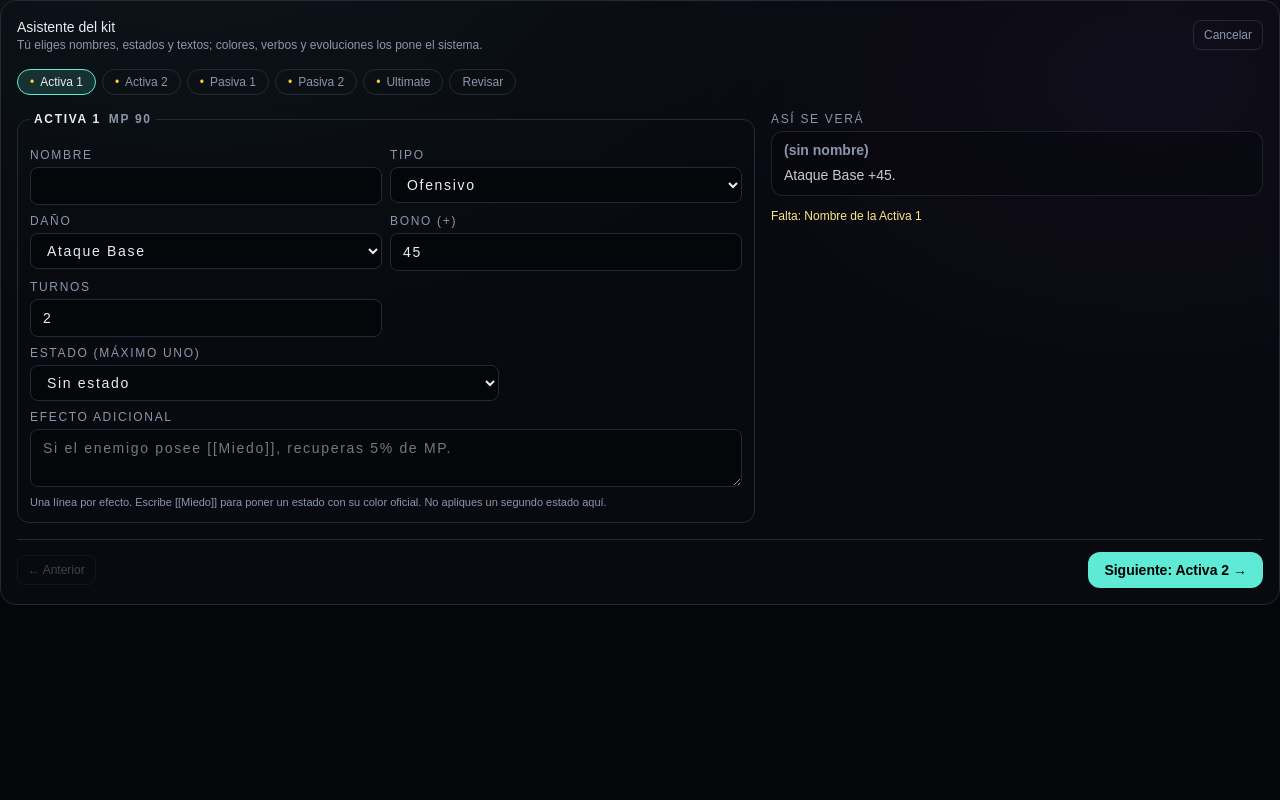
Test: Paso «Habilidades» › cada pieza del asistente marca si le falta algo
Expected: the list item "Falta: Nombre de la Activa 1" is shown, [771,209,922,223]
In the field labelled "Nombre": (206, 186) [30,167,382,205], type "Golpe"
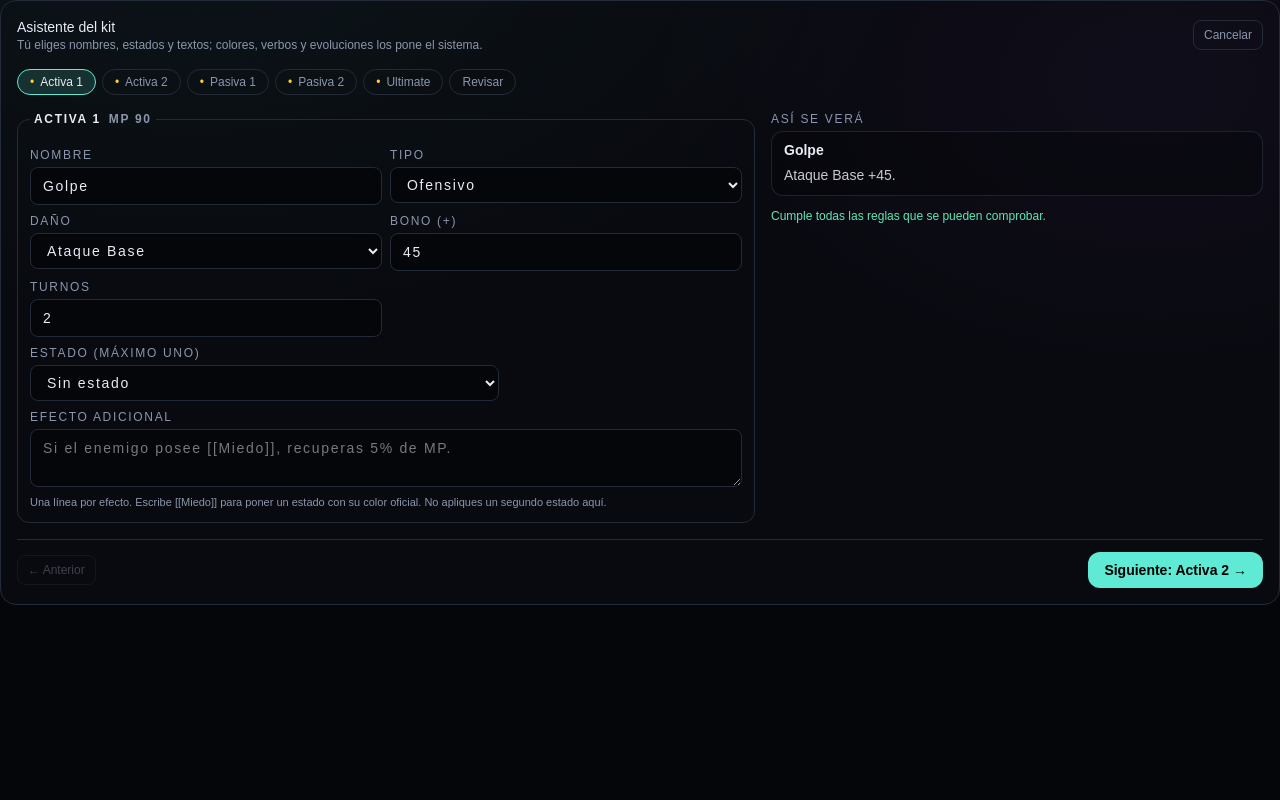
Now the list item "Falta: Nombre de la Activa 1" is gone
